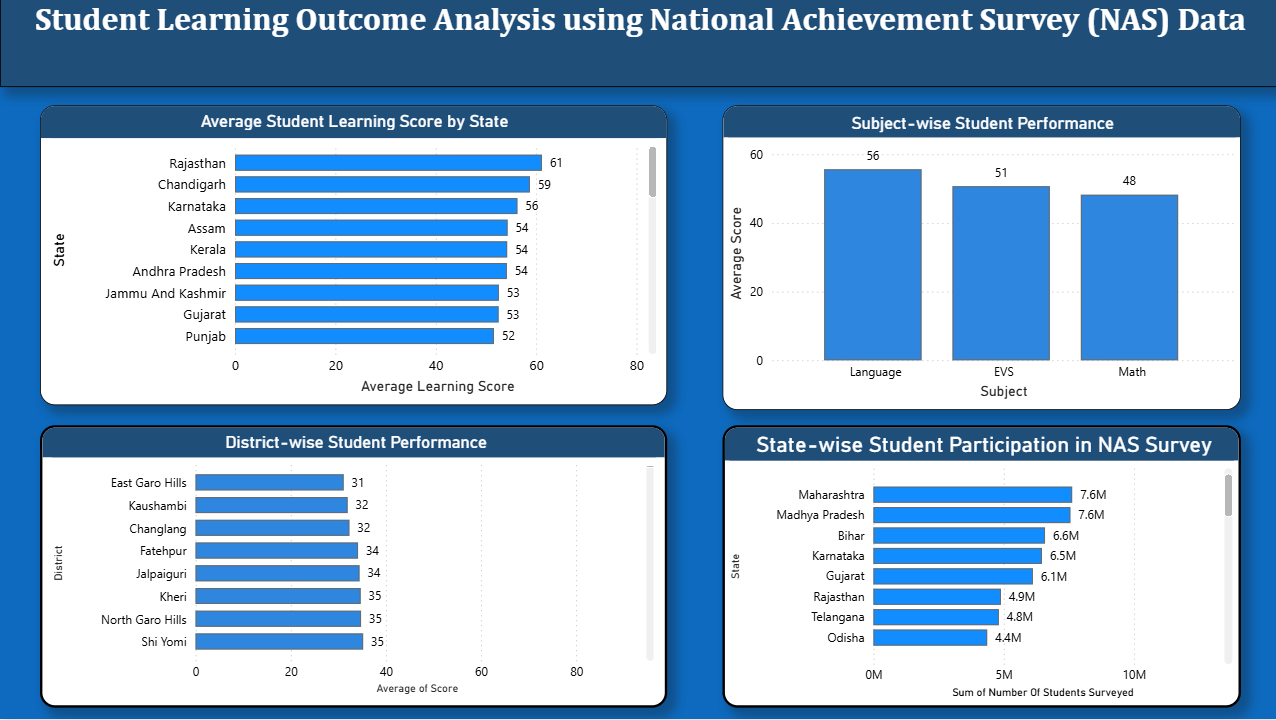

The page's visual inventory and layout, read from the dashboard file:
{"tool":"powerbi","page":{"name":"Page 1","canvas":[1280,720],"ordinal":0},"visuals":[{"type":"clusteredBarChart","title":"Average Student Learning Score by State","fields":{"Category":["sujalpawar645_1773078799558511.State"],"Y":["Avg(sujalpawar645_1773078799558511.Score)"]},"box":[40,106.2,627.5,300],"z":0},{"type":"columnChart","title":"Subject-wise Student Performance","fields":{"Category":["sujalpawar645_1773078799558511.Subject"],"Y":["Avg(sujalpawar645_1773078799558511.Score)"]},"box":[722.5,106.2,518.8,305],"z":1000},{"type":"clusteredBarChart","title":"District-wise Student Performance","fields":{"Category":["sujalpawar645_1773078799558511.District"],"Y":["Avg(sujalpawar645_1773078799558511.Score)"]},"box":[40,426.2,627.5,282.5],"z":2000},{"type":"clusteredBarChart","title":"State-wise Student Participation in NAS Survey","fields":{"Category":["sujalpawar645_1773078799558511.State"],"Y":["Sum(sujalpawar645_1773078799558511.Number Of Students Surveyed (UOM:Number), Scaling Factor:1)"]},"box":[722.5,426.2,518.8,282.5],"z":3000},{"type":"textbox","title":"Student Learning Outcome Analysis using National Achievement Survey (NAS) Data","box":[0,0,1280,87.5],"z":4000}]}

Visuals, with their boxes in screenshot pixels (x1, y1, x2, y2), scaled from the page's 1280x720 canvas onto the 1276x720 screenshot:
"Average Student Learning Score by State" clusteredBarChart: detection(40, 106, 665, 406)
"Subject-wise Student Performance" columnChart: detection(720, 106, 1237, 411)
"District-wise Student Performance" clusteredBarChart: detection(40, 426, 665, 709)
"State-wise Student Participation in NAS Survey" clusteredBarChart: detection(720, 426, 1237, 709)
"Student Learning Outcome Analysis using National Achievement Survey (NAS) Data" textbox: detection(0, 0, 1275, 88)
